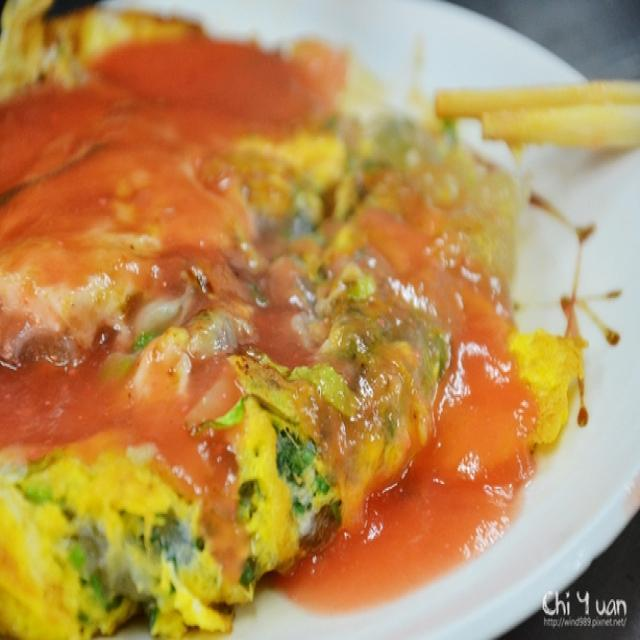熟制海鲜: (1, 1, 636, 634)
